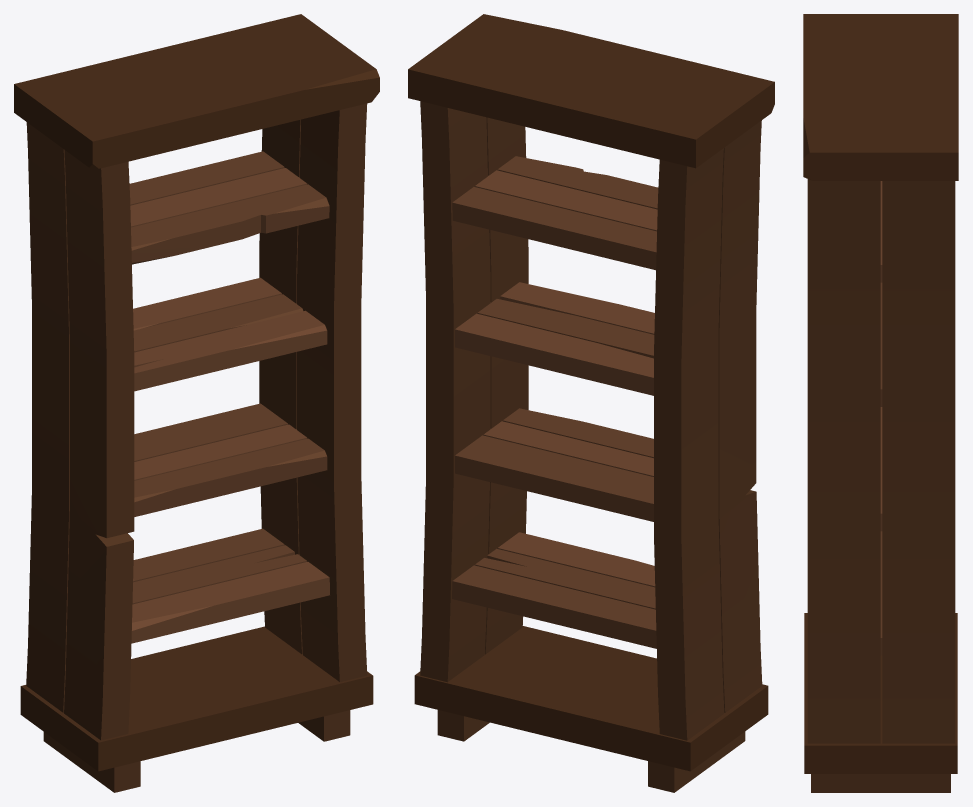
File: Furniture_01.glb
The picture shows the model from 3 angles, left to right: view 1: azimuth 30°, elevation 25°; view 2: azimuth 150°, elevation 25°; view 3: azimuth 270°, elevation 25°; orthographic projection.
Visible parts, largest first — view 1: Furniture_01_LOD0; view 2: Furniture_01_LOD0; view 3: Furniture_01_LOD0.
Part boxes in pixels (x1=…): Furniture_01_LOD0: x1=14, y1=14, x2=379, y2=792; Furniture_01_LOD0: x1=408, y1=14, x2=774, y2=792; Furniture_01_LOD0: x1=803, y1=14, x2=958, y2=792.
Size of what is drawn, in the model's own units: 1.05 by 2.3 by 0.4967.
1 material, 1 textured.
